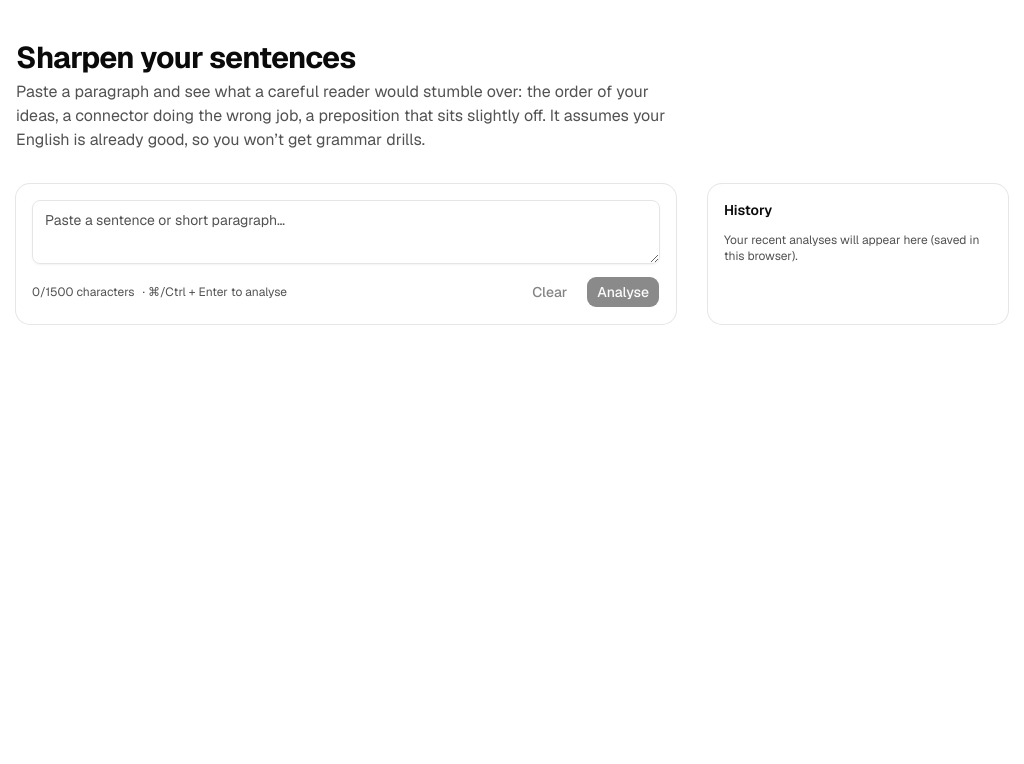
Test case: analysing › renders the issues and the rewrites
In the text box: (346, 232) top-left (32, 200), bottom-right (660, 264), type "The cat sat"
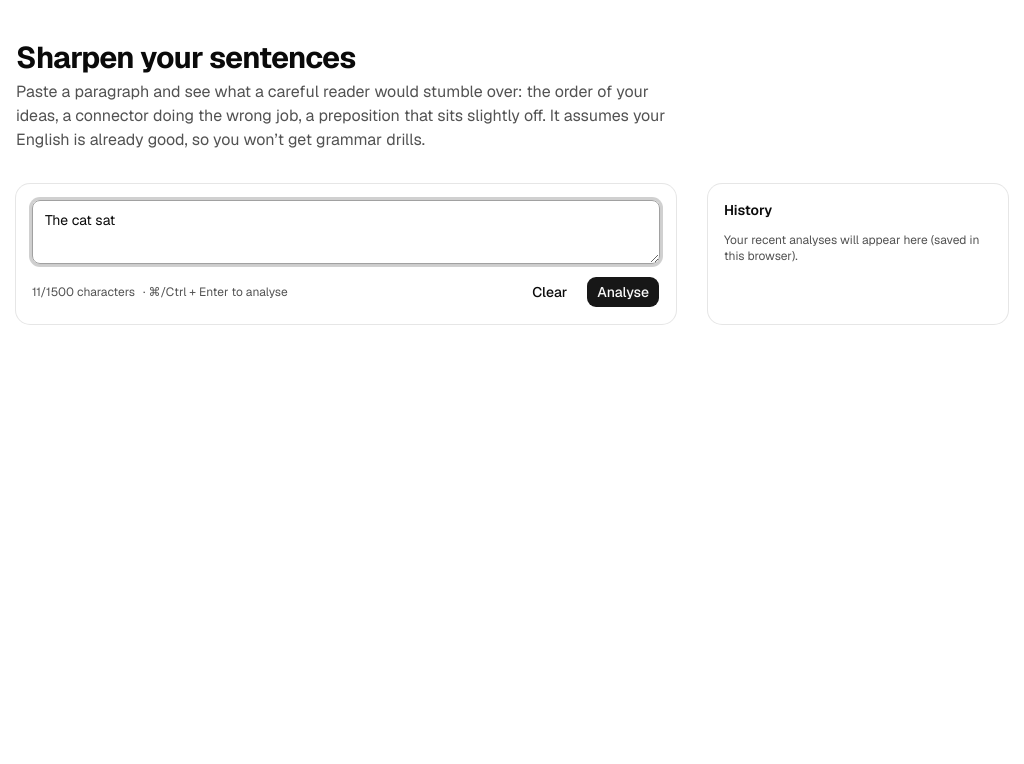
Click the button "Analyse": (623, 292) top-left (586, 276), bottom-right (660, 308)
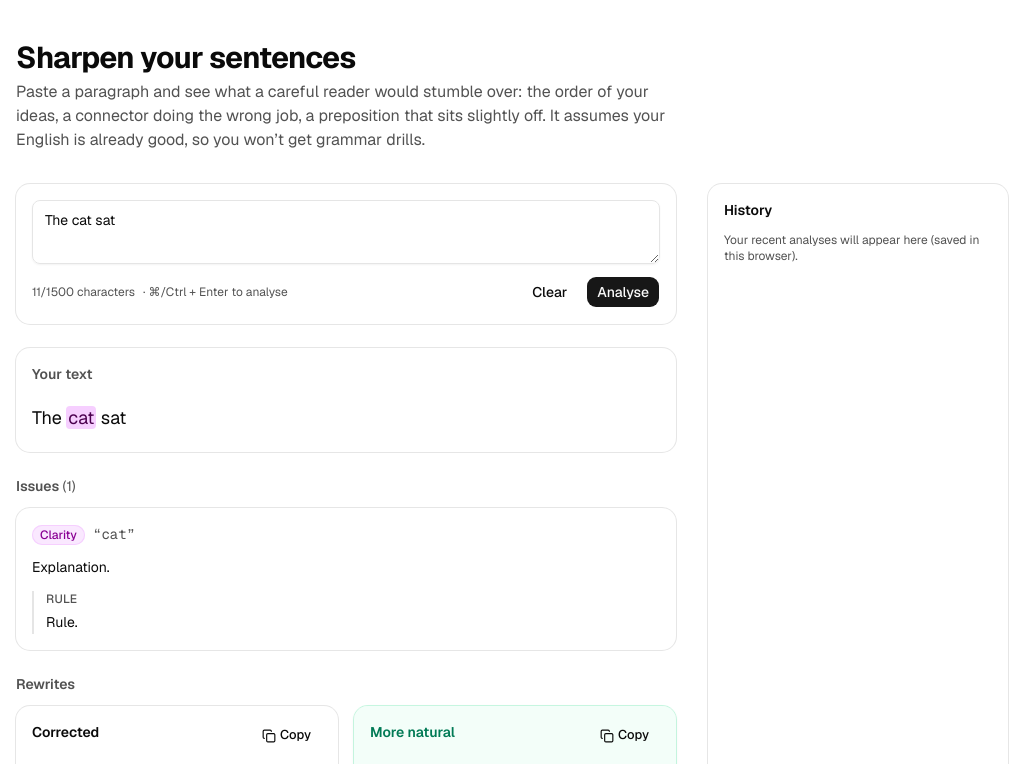
Expected: the heading "Rewrites" is shown, top-left (16, 674), bottom-right (75, 692)
Expected: the heading "Issues (1)" is shown, top-left (16, 477), bottom-right (76, 495)
